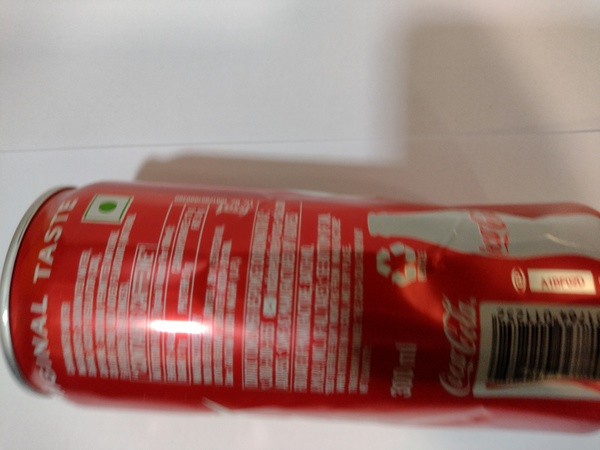can: (4, 170, 599, 447)
